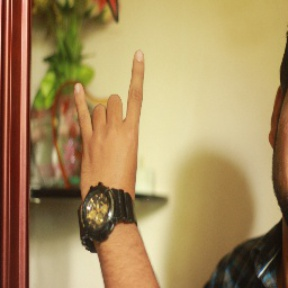V: (73, 46, 151, 208)
